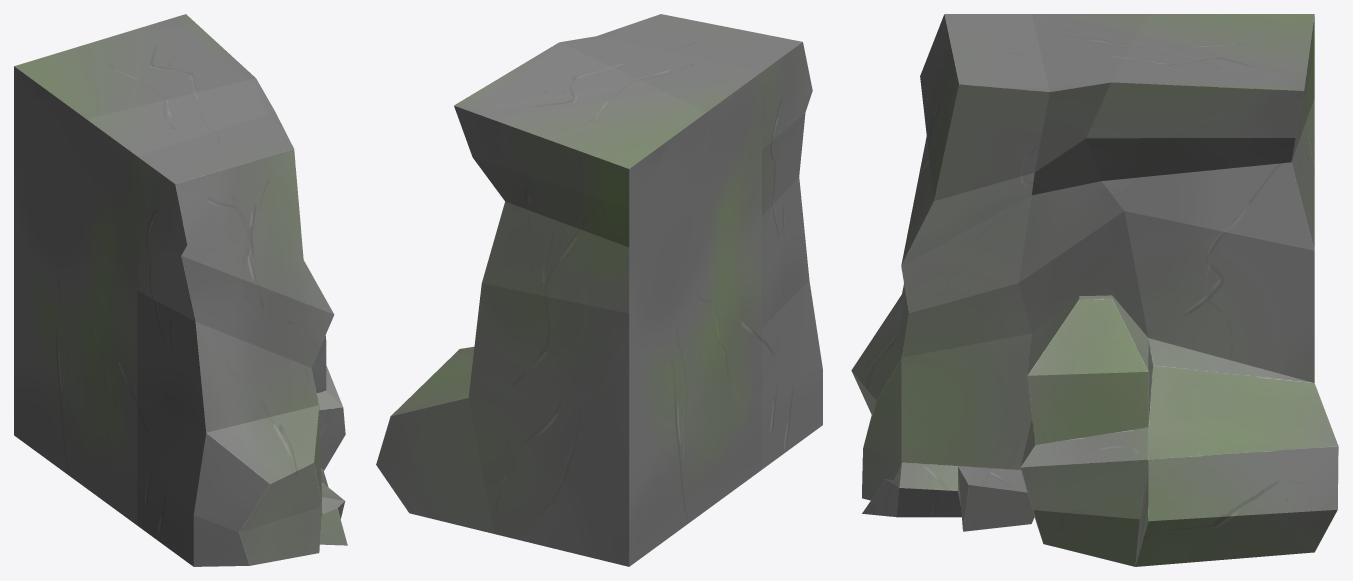
The model's file is Rots.fbx.
3 views of the same model, side by side, from view 1: azimuth 30°, elevation 25°; view 2: azimuth 150°, elevation 25°; view 3: azimuth 270°, elevation 25° (orthographic). The views are drawn at different scales.
Visible parts, largest first — view 1: pCube8; view 2: pCube8; view 3: pCube8.
Boxes of the visible parts, x1=… form: pCube8: x1=14, y1=14, x2=347, y2=566; pCube8: x1=376, y1=14, x2=822, y2=566; pCube8: x1=851, y1=14, x2=1338, y2=566.
Size of the model in its own units: 1.96 by 2.93 by 2.93.
Materials: 1 (1 with a texture image).
